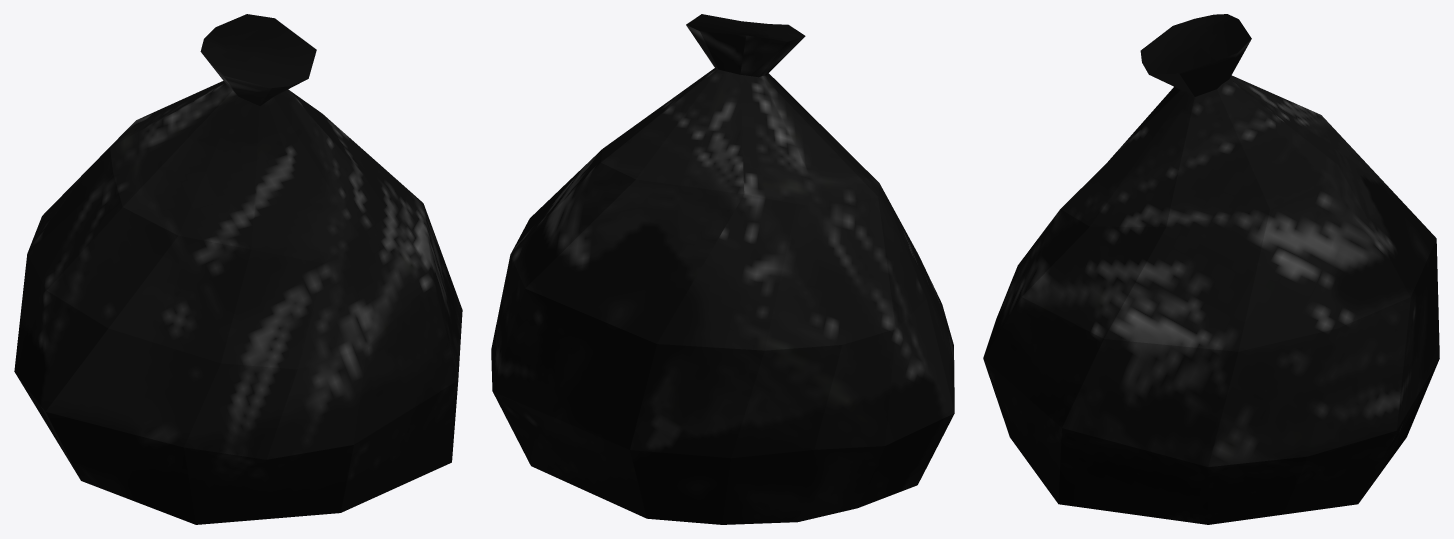
Rendered from saco_de_lixo.glb.
3 views of the same model, side by side, from view 1: azimuth 30°, elevation 25°; view 2: azimuth 150°, elevation 25°; view 3: azimuth 270°, elevation 25° (orthographic). The views are drawn at different scales.
Visible parts, largest first — view 1: Cube; view 2: Cube; view 3: Cube.
Boxes of the visible parts, <box> form: Cube: <box>14,14,462,524</box>; Cube: <box>491,14,954,524</box>; Cube: <box>983,14,1439,524</box>.
Bounding box in the file's own units: 0.6961 × 0.6476 × 0.6507.
1 material, 1 textured.
